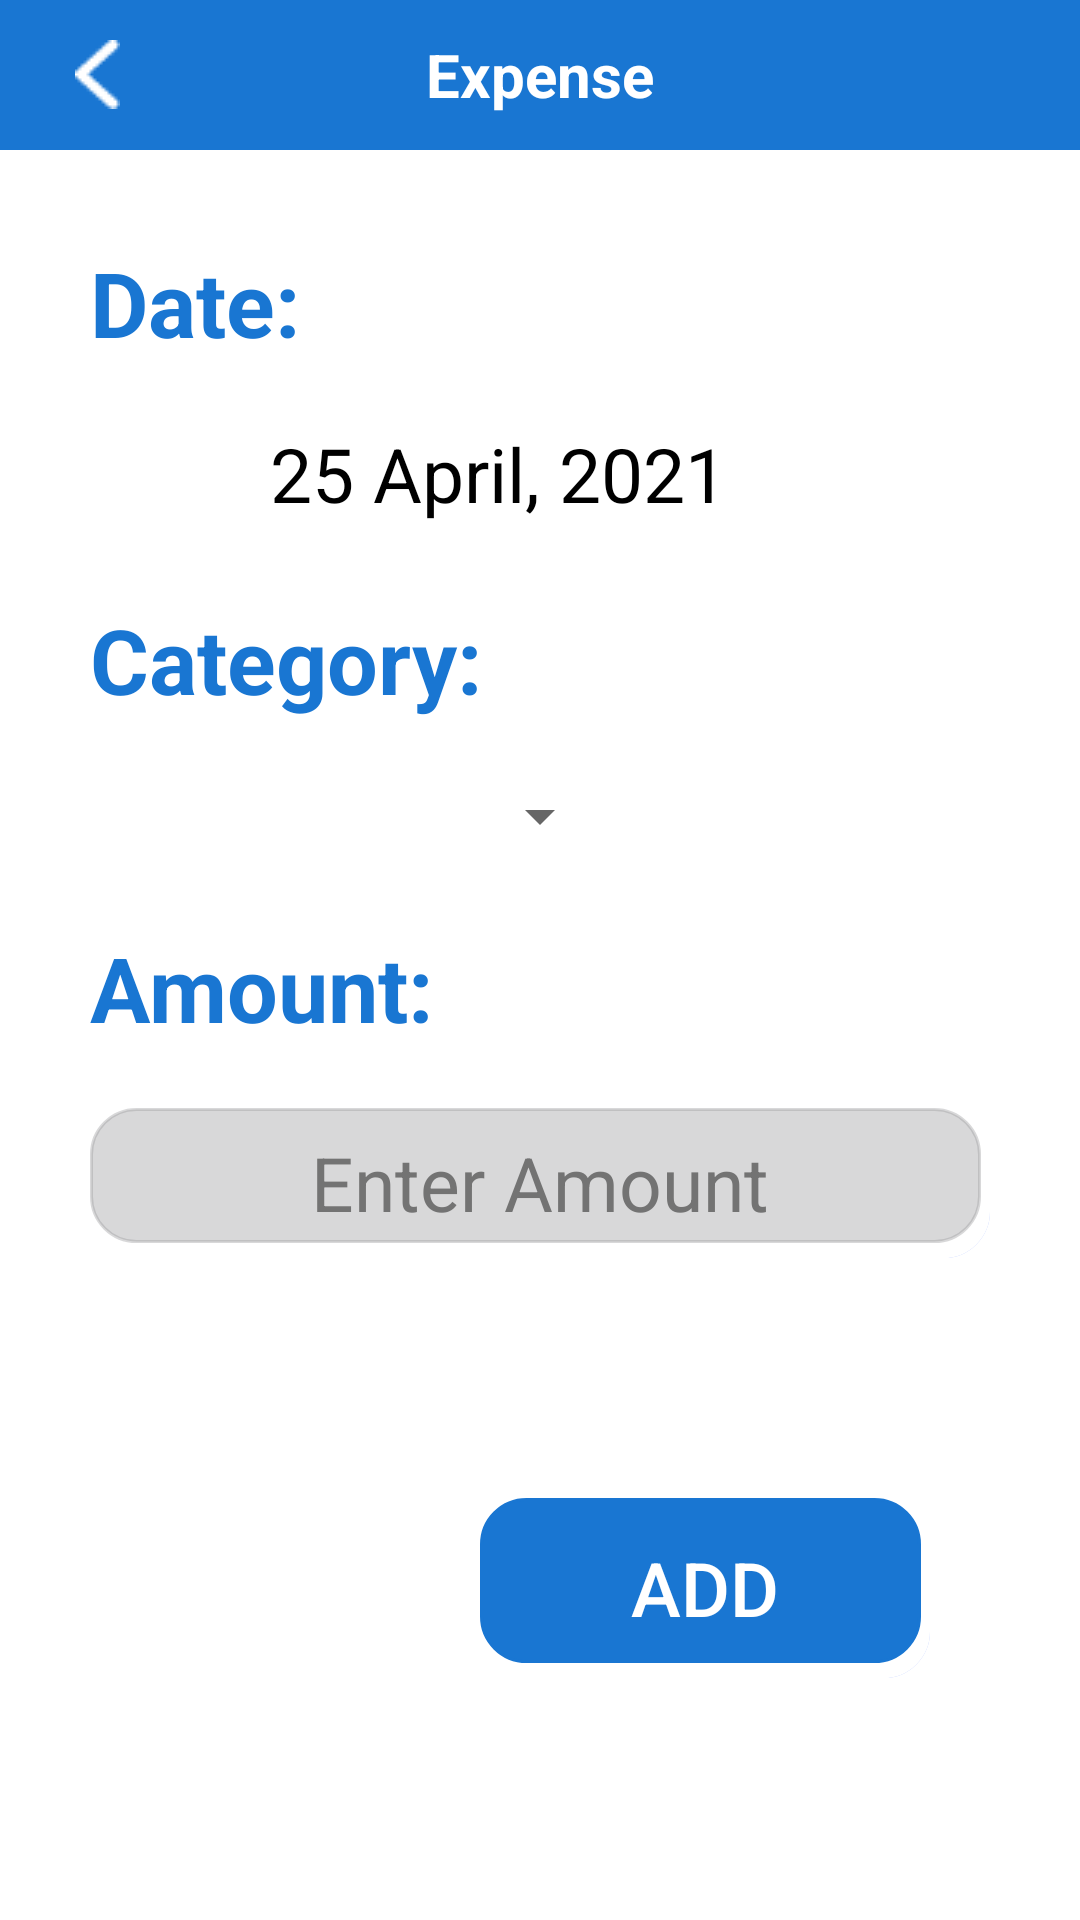

Where icons sit on this 1080w x 1920h app screen, as bbox=[x1, y1, x2, y2]:
arrow back: bbox=[75, 40, 120, 109]
